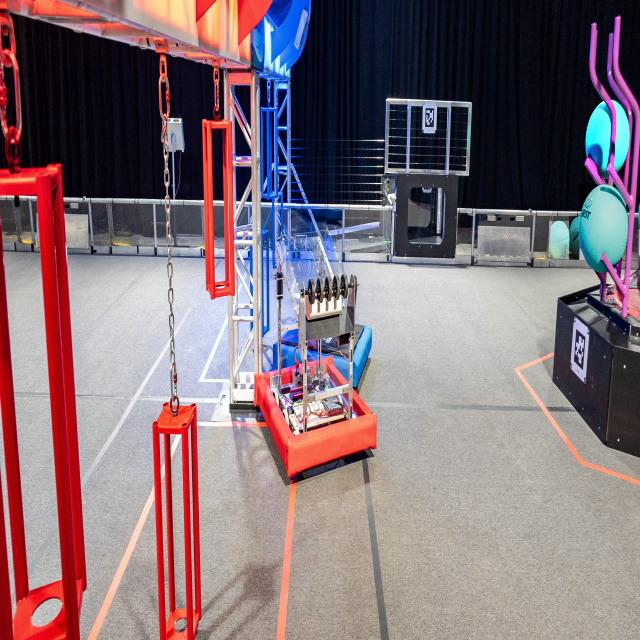Algae: (579, 184, 628, 274), (585, 100, 630, 178), (549, 221, 570, 259), (569, 216, 580, 260)
